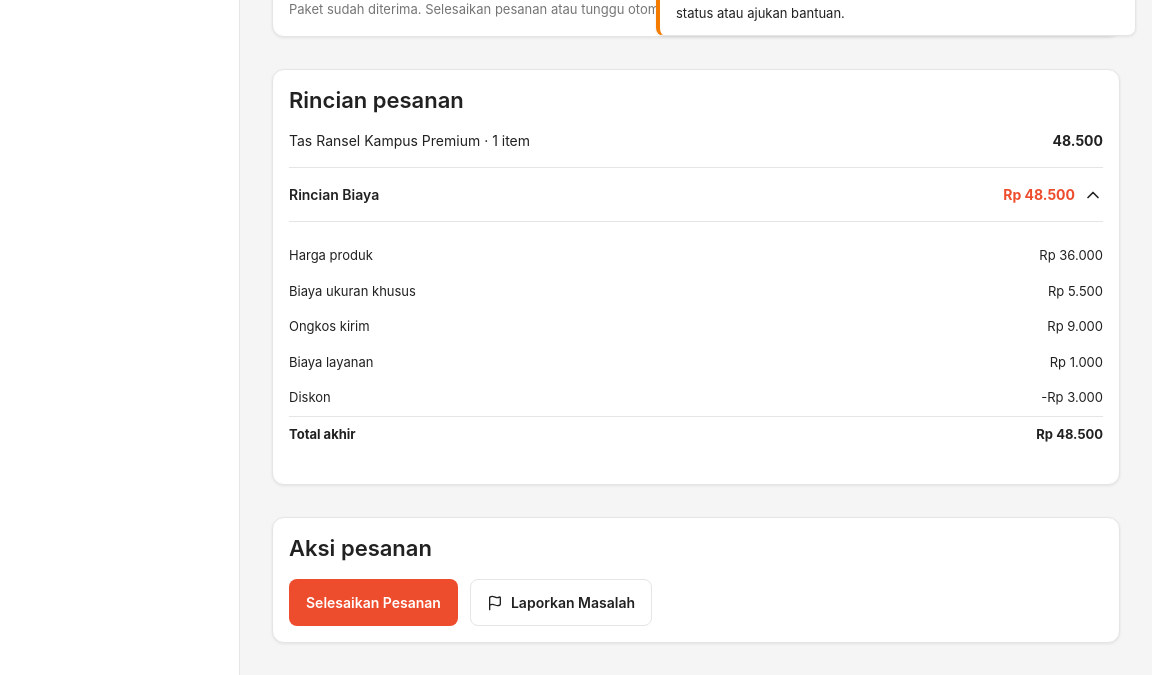
Test: Phase 5 integration › AC-005/008/010/013/026/036: completion updates detail, tab, toast and storage
Later steps or results of the test are not shown.
(page scrolled)
Click the button "Selesaikan Pesanan": (373, 603) 289,579 -> 458,626
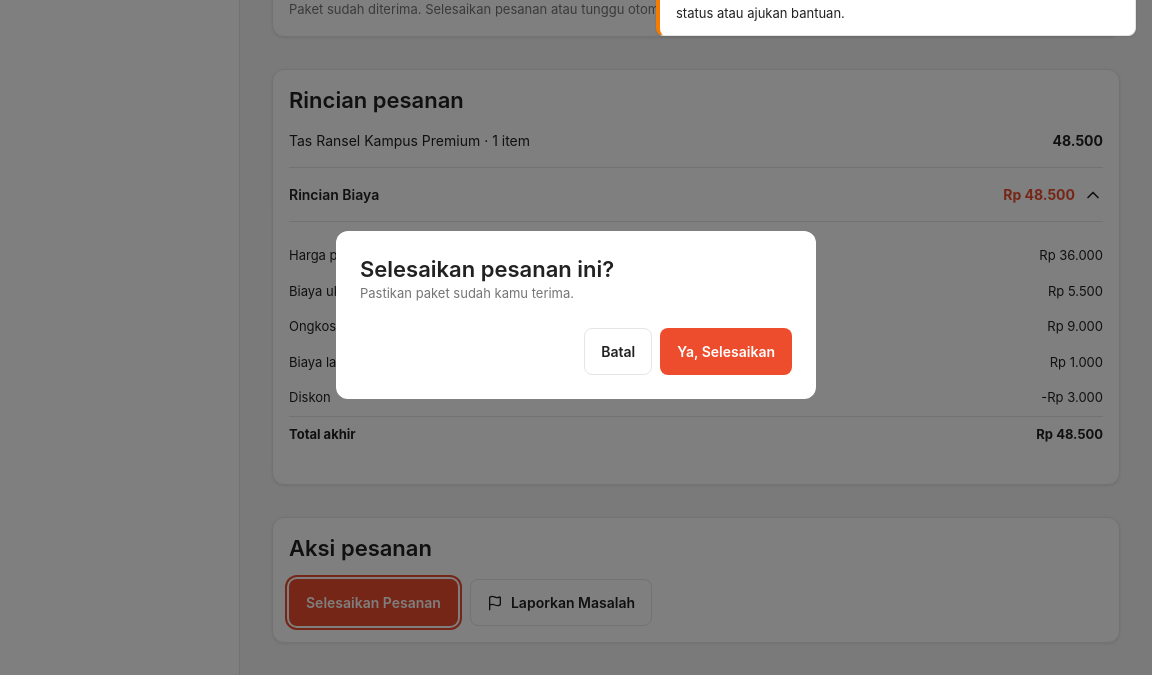
Result: the dialog is shown at 336,232 -> 816,399
Click the button "Ya, Selesaikan": (726, 351) 660,328 -> 792,374
(page scrolled)
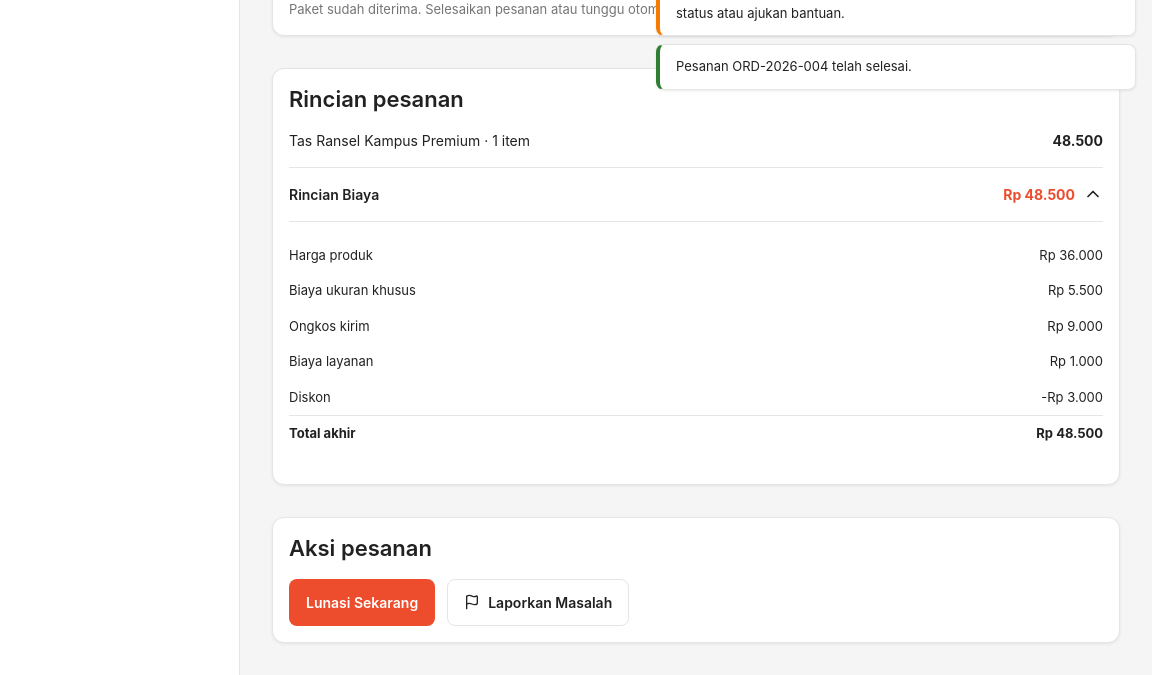
Result: the button "Lunasi Sekarang" is shown at 289,579 -> 435,626
